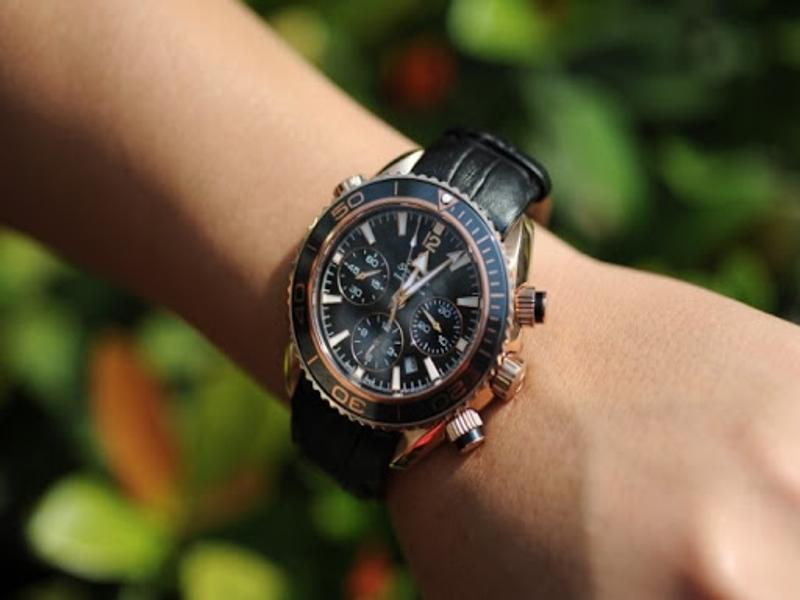watch: (273, 128, 557, 505)
